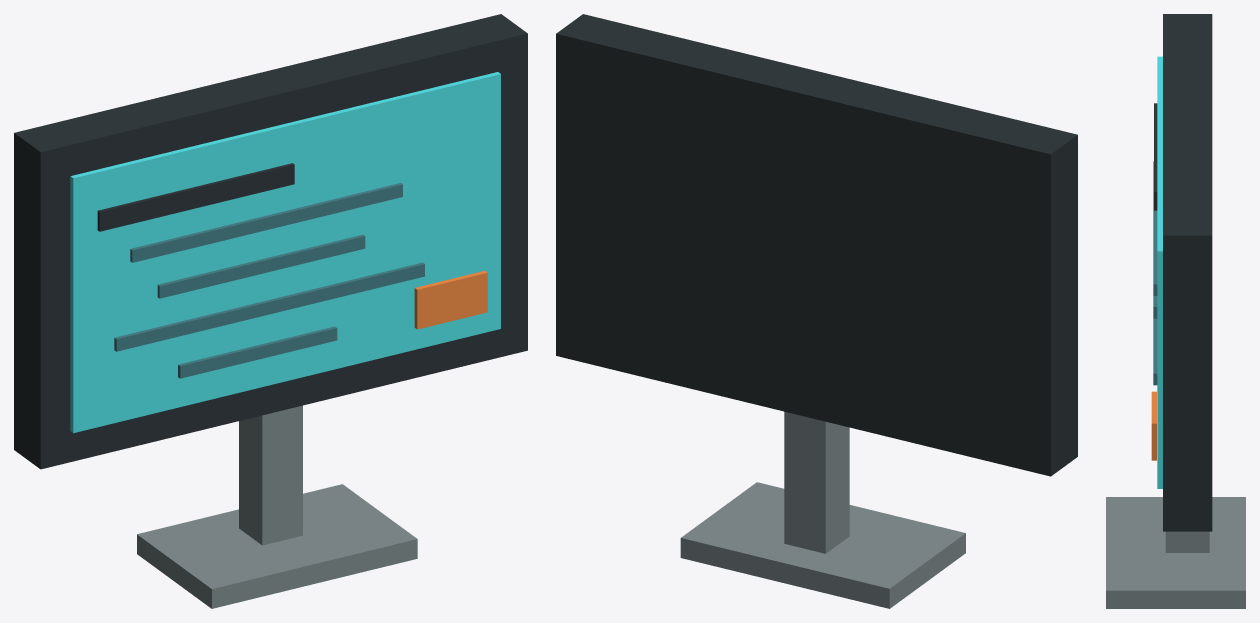
File: monitor.glb
The picture shows the model from 3 angles, left to right: view 1: azimuth 30°, elevation 25°; view 2: azimuth 150°, elevation 25°; view 3: azimuth 270°, elevation 25°; orthographic projection. The views are drawn at different scales.
Visible parts, largest first — view 1: Terminal display, Terminal display frame, Monitor foot, Monitor column, Screen prompt line 3, Screen header, Screen prompt line 1, Screen prompt line 2, Screen locked marker, Screen prompt line 4; view 2: Terminal display frame, Monitor foot, Monitor column; view 3: Terminal display frame, Monitor foot, Terminal display, Monitor column, Screen prompt line 1, Screen header, Screen locked marker, Screen prompt line 3.
Boxes of the visible parts, x1,y1,x2,y2 form: Terminal display: [70, 72, 500, 433]; Terminal display frame: [14, 14, 527, 469]; Monitor foot: [137, 484, 417, 608]; Monitor column: [239, 405, 302, 545]; Screen prompt line 3: [114, 262, 424, 351]; Screen header: [97, 163, 294, 231]; Screen prompt line 1: [130, 183, 402, 262]; Screen prompt line 2: [157, 234, 365, 298]; Screen locked marker: [414, 270, 487, 329]; Screen prompt line 4: [178, 326, 337, 378]; Terminal display frame: [556, 14, 1077, 476]; Monitor foot: [680, 482, 965, 608]; Monitor column: [784, 411, 849, 553]; Terminal display frame: [1163, 14, 1212, 531]; Monitor foot: [1106, 497, 1245, 608]; Terminal display: [1157, 56, 1162, 488]; Monitor column: [1165, 531, 1209, 552]; Screen prompt line 1: [1153, 161, 1157, 295]; Screen header: [1154, 103, 1157, 210]; Screen locked marker: [1151, 391, 1156, 460]; Screen prompt line 3: [1153, 318, 1157, 385].
Size of the model in its own units: 0.9 by 0.8275 by 0.24.
